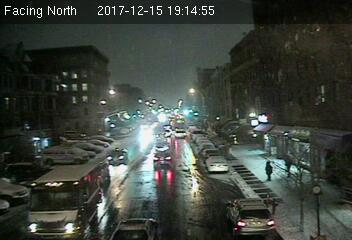car: (226, 196, 277, 236), (107, 213, 159, 240), (203, 155, 230, 172), (106, 148, 128, 164), (153, 151, 171, 165), (173, 128, 188, 138)
pedestrian: (283, 153, 294, 179), (263, 160, 274, 181)
ups: (27, 165, 102, 240)
